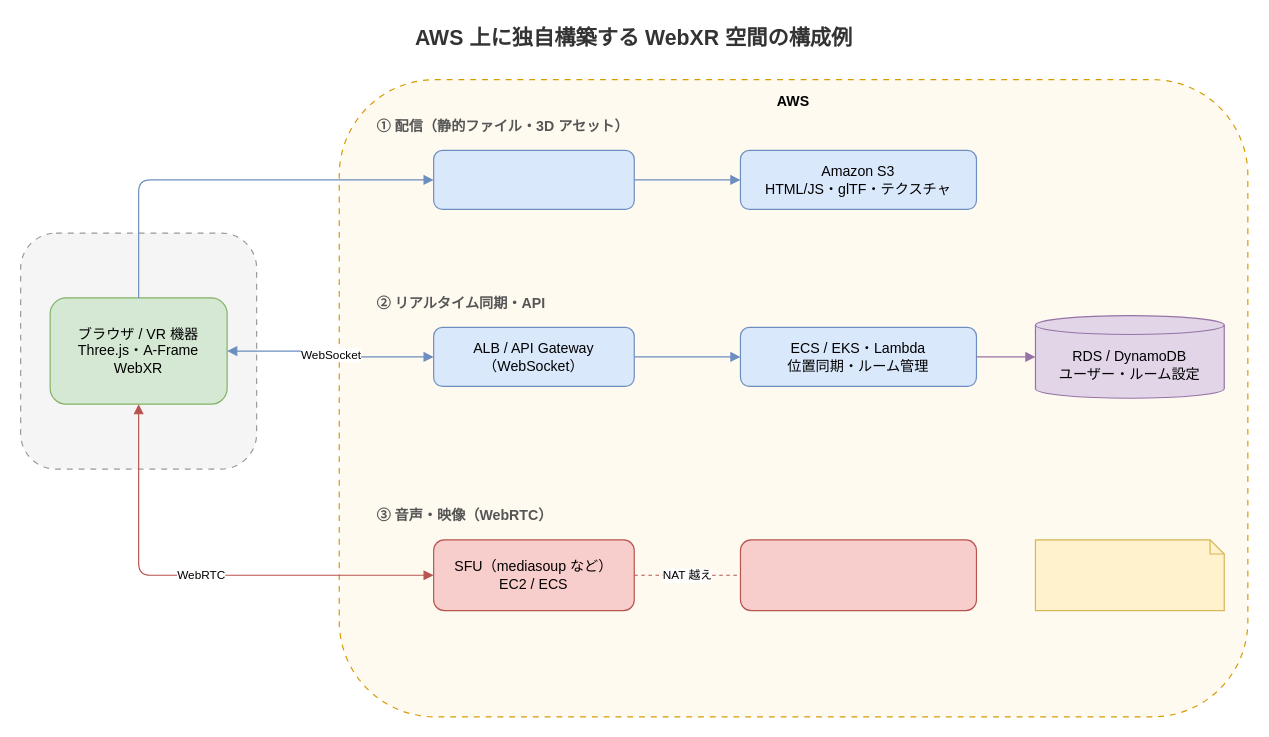
Some shapes in this 1269 by 737 pixel diagram are drawn without their labels. Here are the shapes that lost their labels. From the top down, the box of each, then its label:
(432, 149, 634, 209): Amazon CloudFront
(19, 232, 257, 469): クライアント
(739, 539, 976, 611): STUN / TURN（coturn など） EC2
(1034, 539, 1224, 611): 通信量・常時稼働で コストが膨らみやすい
